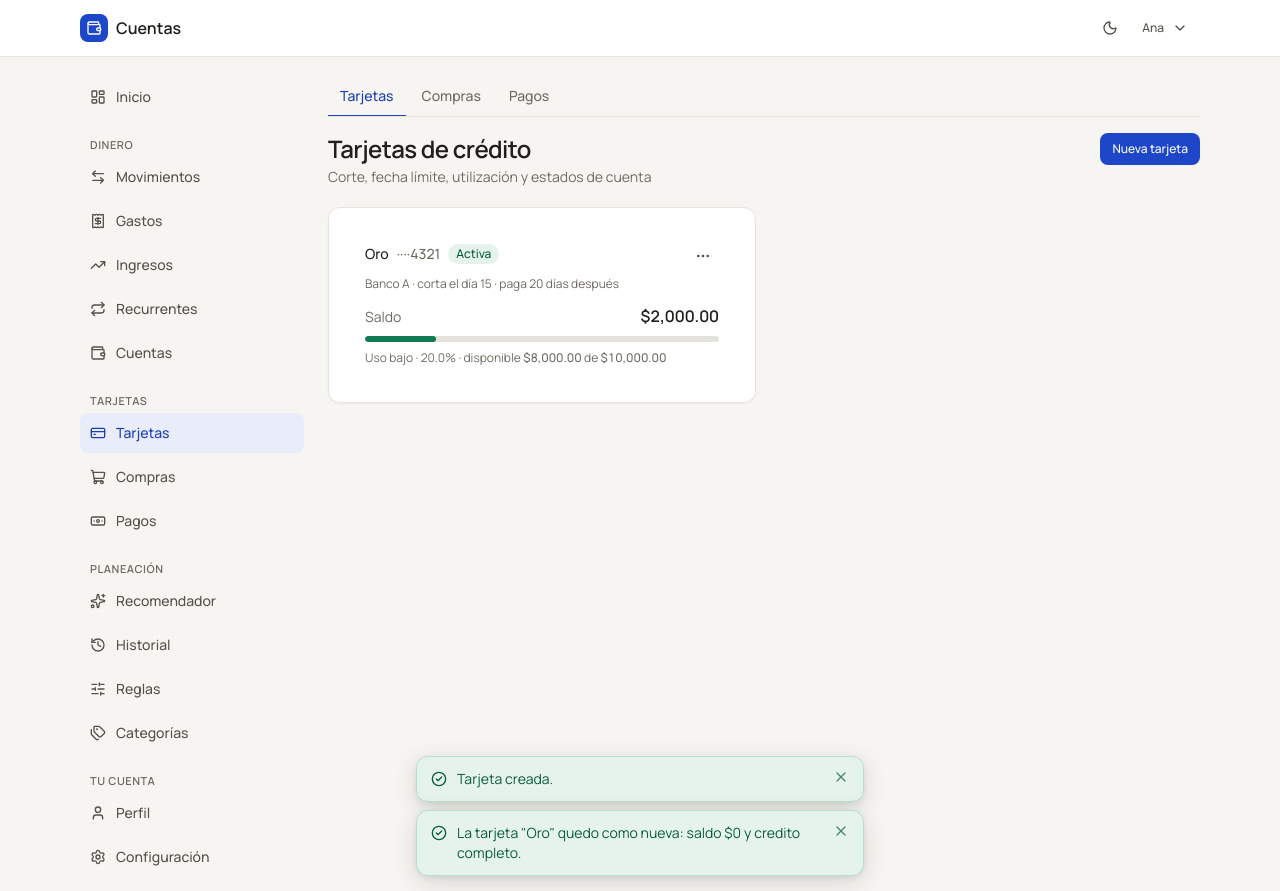
Test case: tarjetas › elimina la tarjeta con todo su historial y motivo
Click the button named "Más acciones de Oro".
click(703, 256)  # box [687,240,719,272]
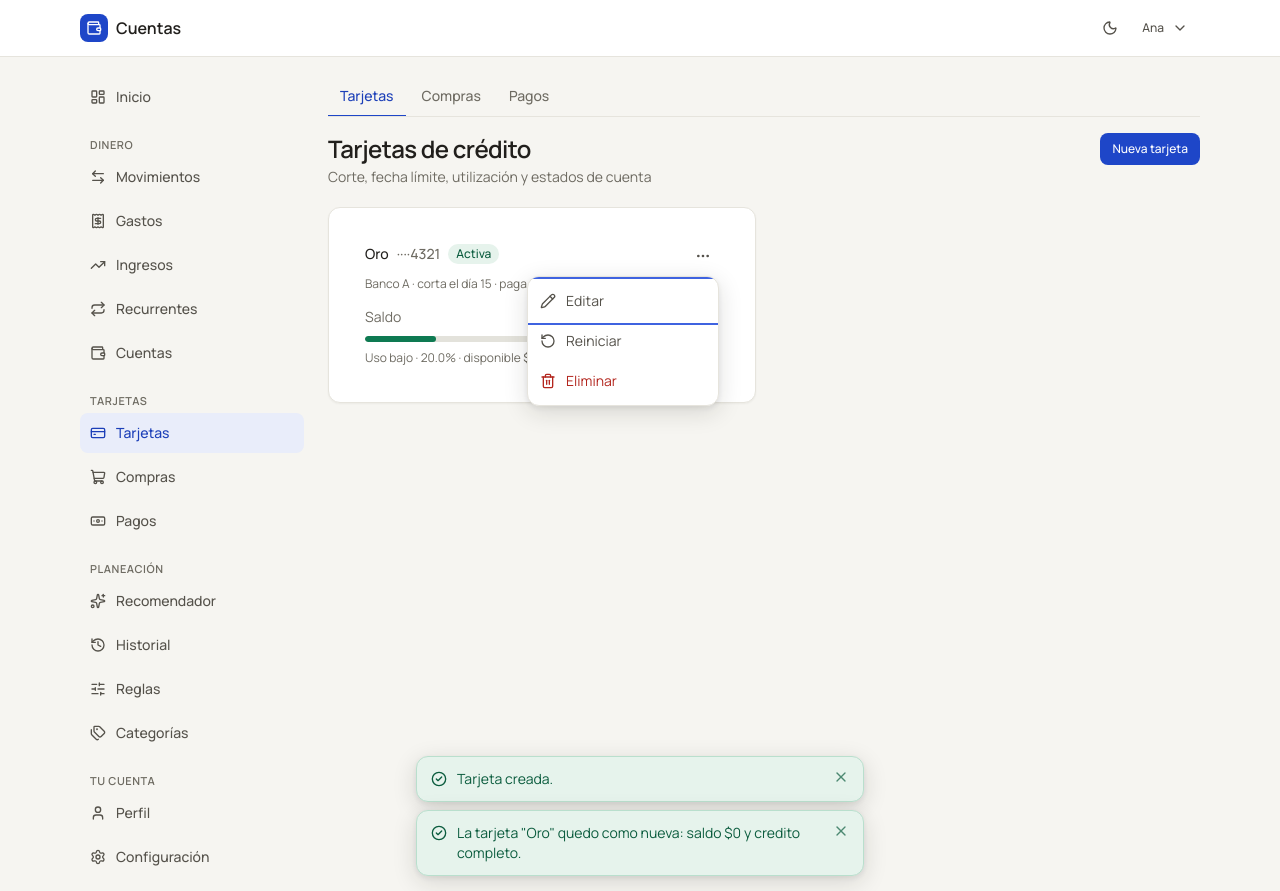
Click the menu item "Eliminar".
click(623, 381)  # box [528,361,718,401]
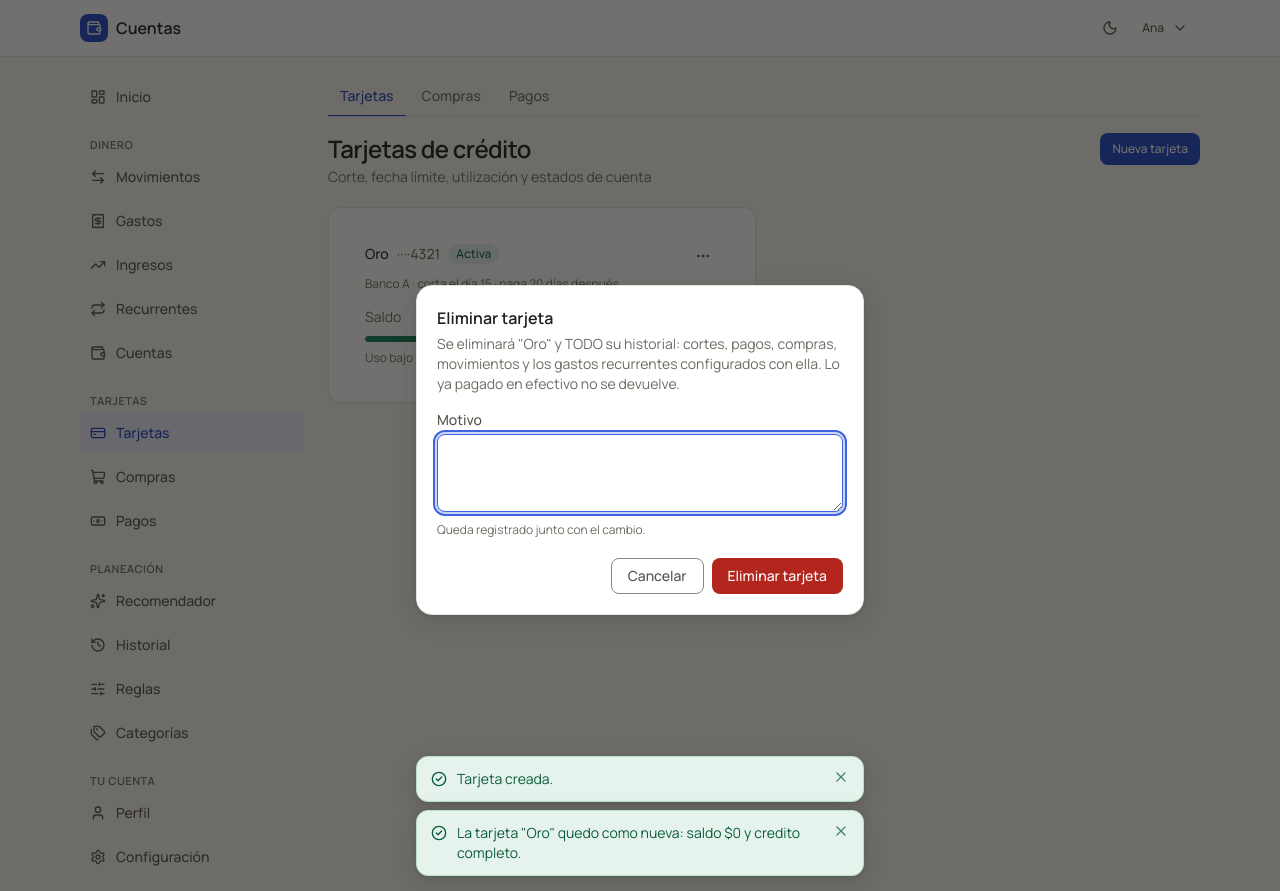
Expected: the text "TODO su historial" is shown, [437,334,840,393]
Type "Ya no la uso" into the text box labelled "Motivo".
click(640, 473); type("Ya no la uso")  # box [437,434,843,512]
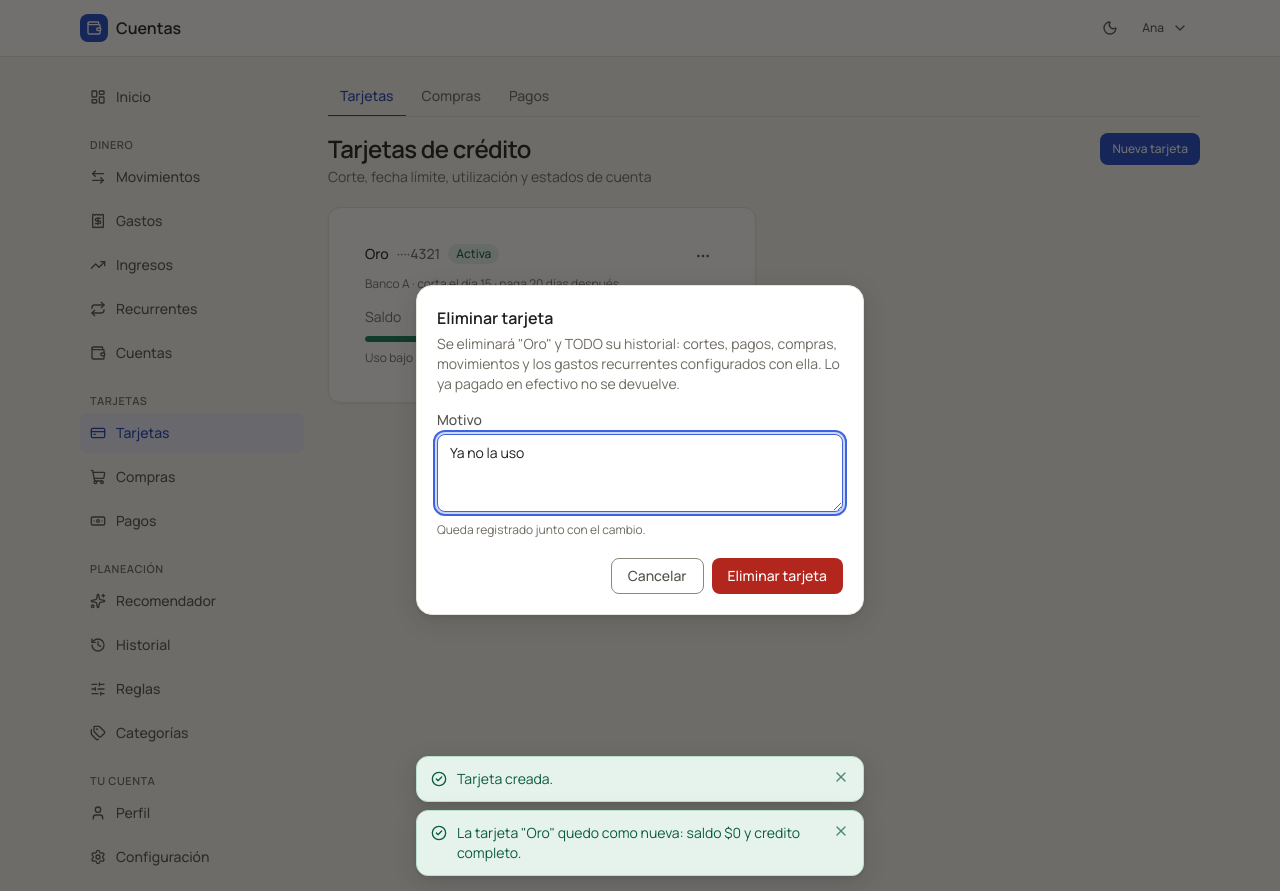
Click the button "Eliminar tarjeta".
click(777, 576)  # box [712,558,843,594]
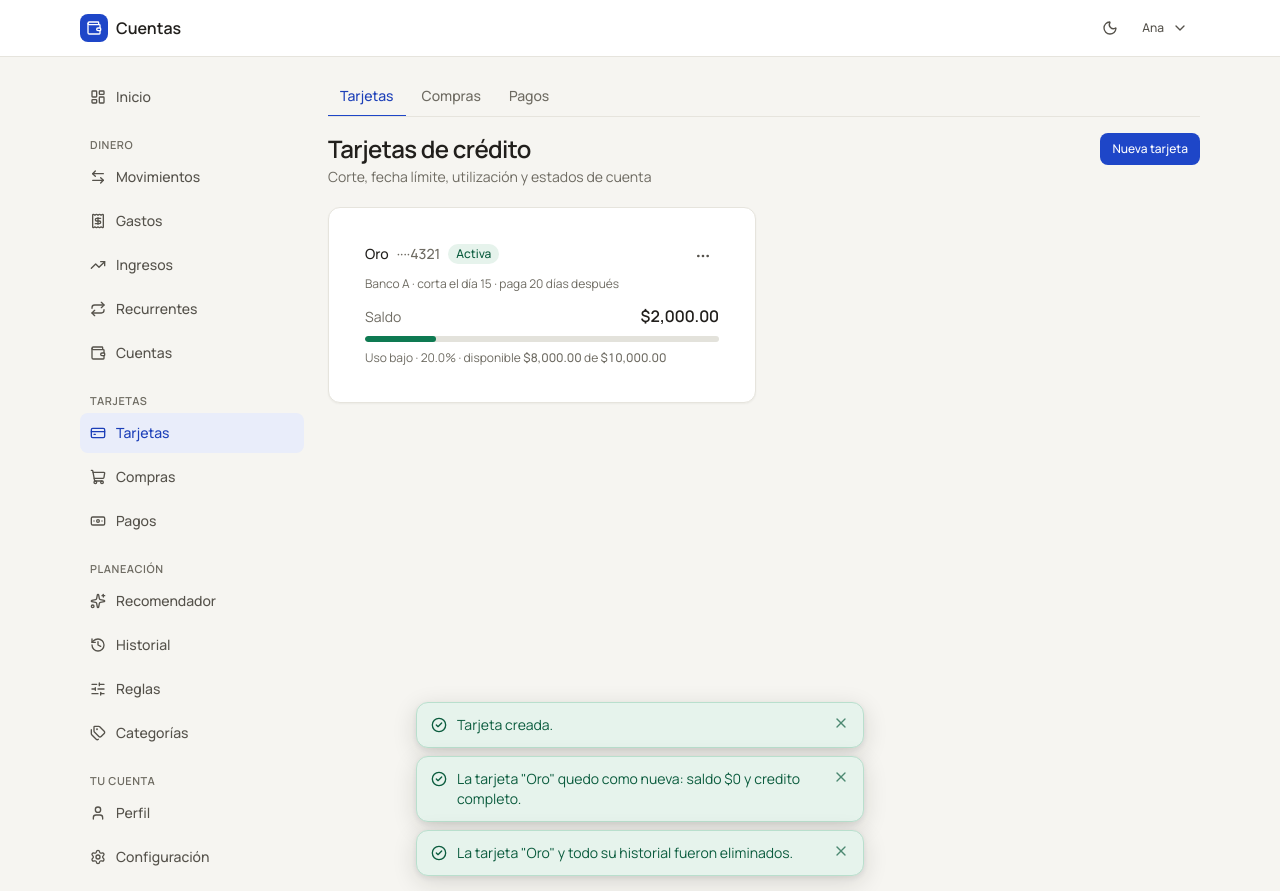
Expected: the text "La tarjeta \"Oro\" y todo su historial fueron eliminados." is shown, [457,843,823,863]
